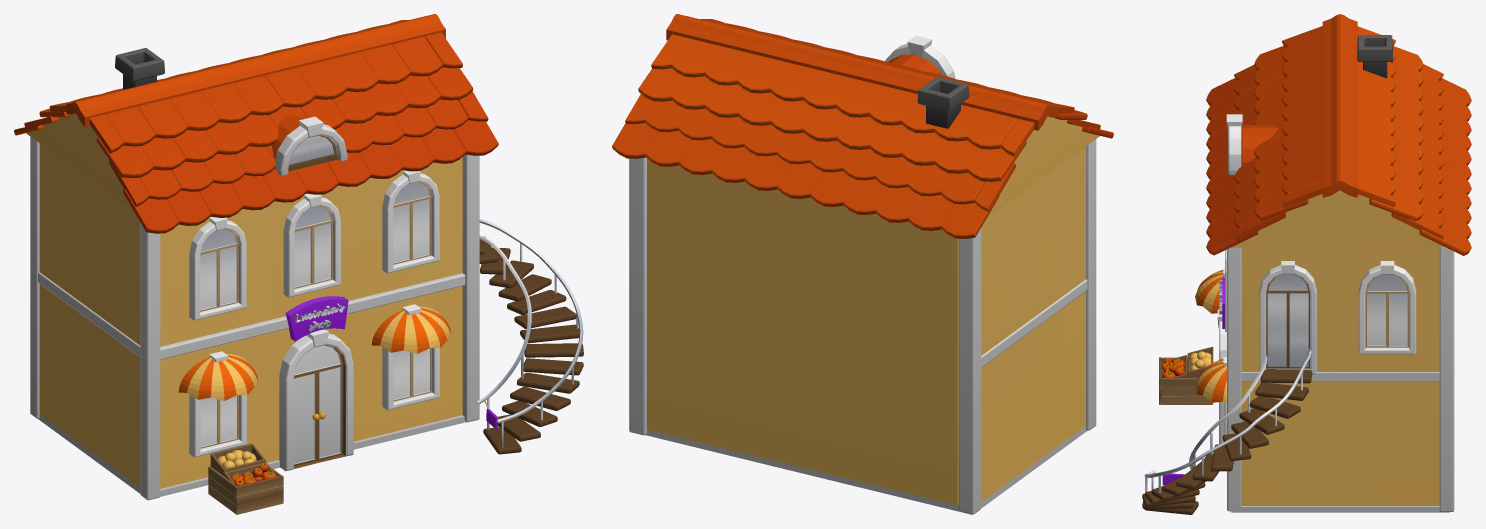
File: shop_n.fbx
The picture shows the model from 3 angles, left to right: view 1: azimuth 30°, elevation 25°; view 2: azimuth 150°, elevation 25°; view 3: azimuth 270°, elevation 25°; orthographic projection. The views are drawn at different scales.
Visible parts, largest first — view 1: shop; view 2: shop; view 3: shop.
Boxes of the visible parts, x1,y1,x2,y2 form: shop: (14, 14, 583, 514); shop: (612, 14, 1113, 514); shop: (1142, 14, 1471, 514).
Size of the model in its own units: 6.24 by 5.09 by 4.34.
